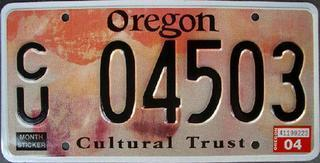placa de veiculo: (4, 4, 308, 155)
